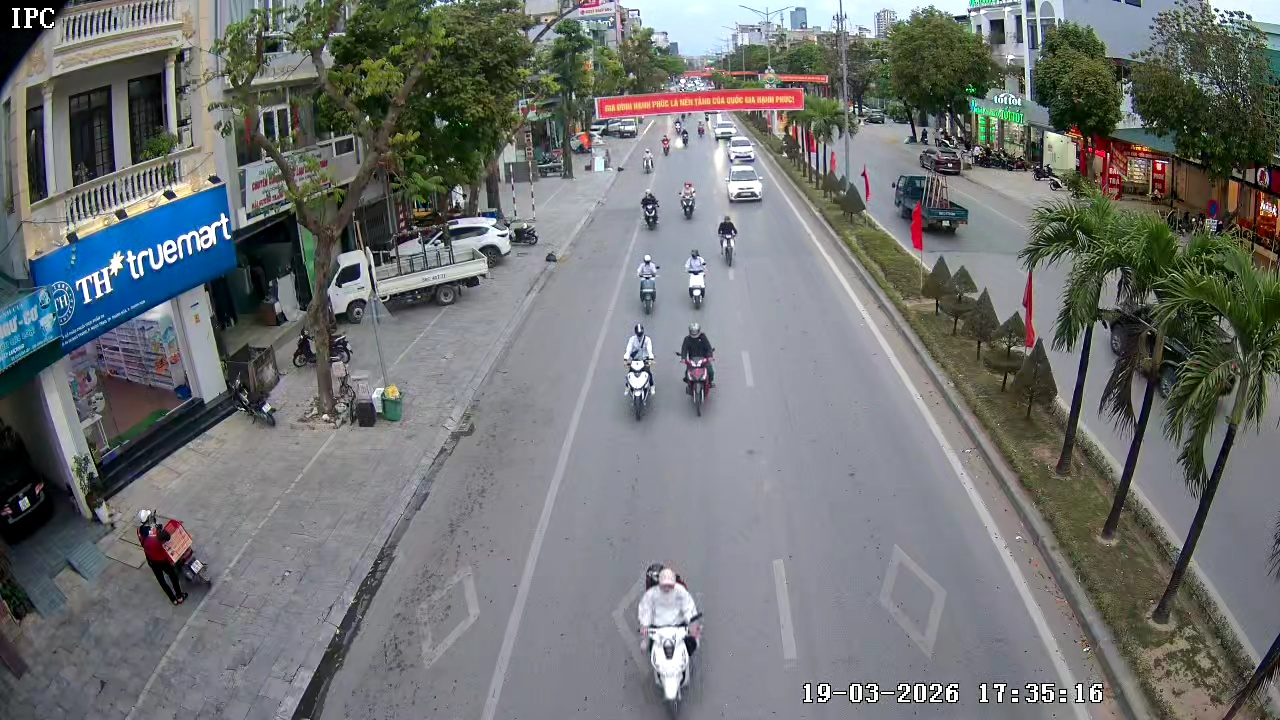car: (891, 169, 969, 237), (724, 158, 763, 203)
motorbike: (634, 560, 707, 719), (135, 507, 212, 606), (675, 322, 718, 417), (621, 322, 658, 421), (635, 252, 662, 316), (683, 247, 710, 310), (716, 212, 740, 268), (639, 187, 661, 231), (679, 179, 698, 221), (639, 145, 655, 175)
